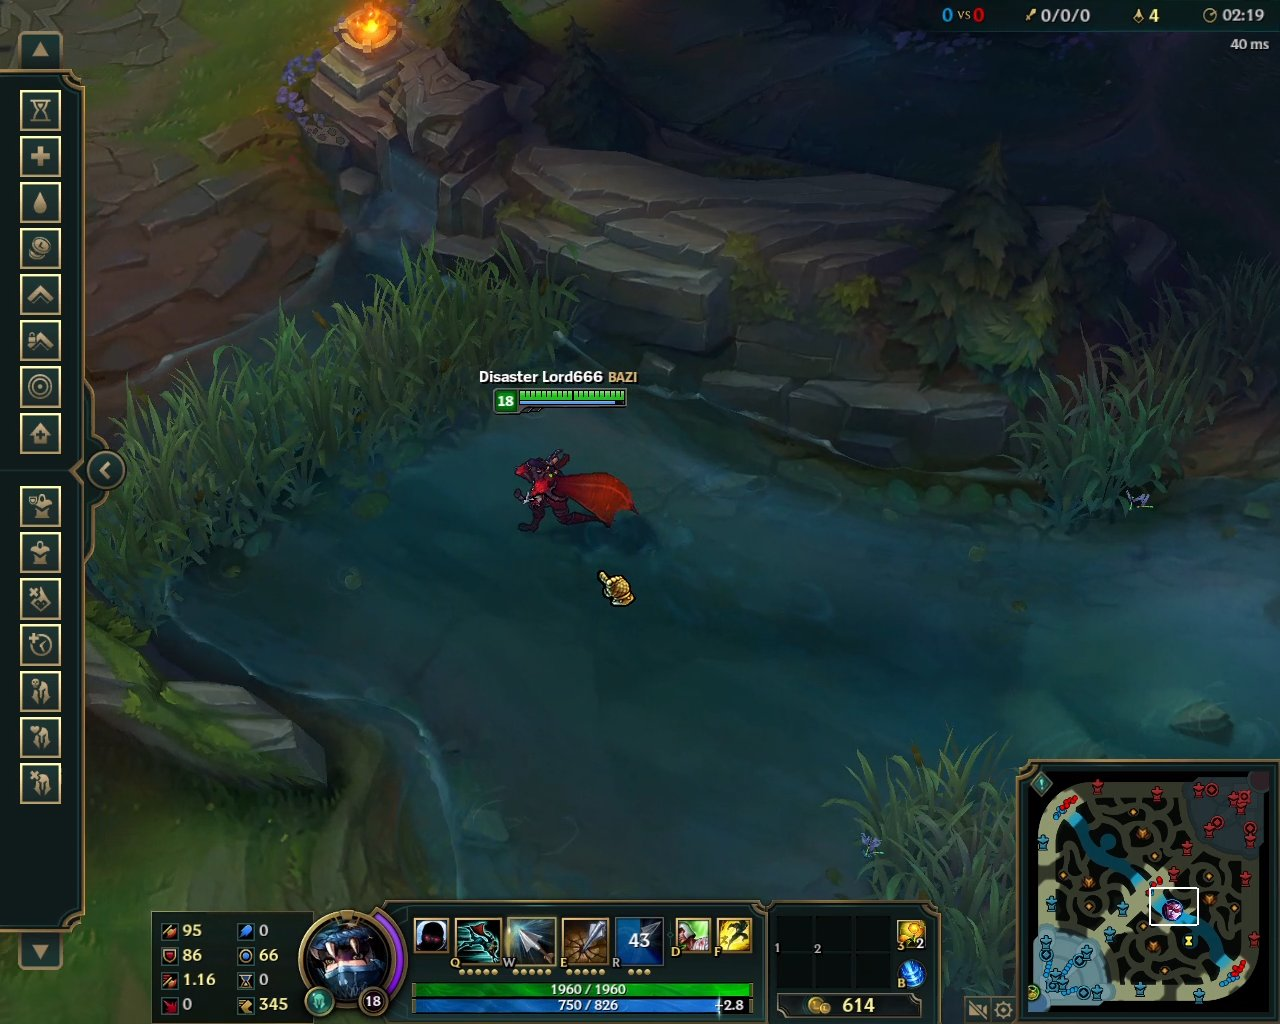Vayne: (501, 442, 644, 539)
